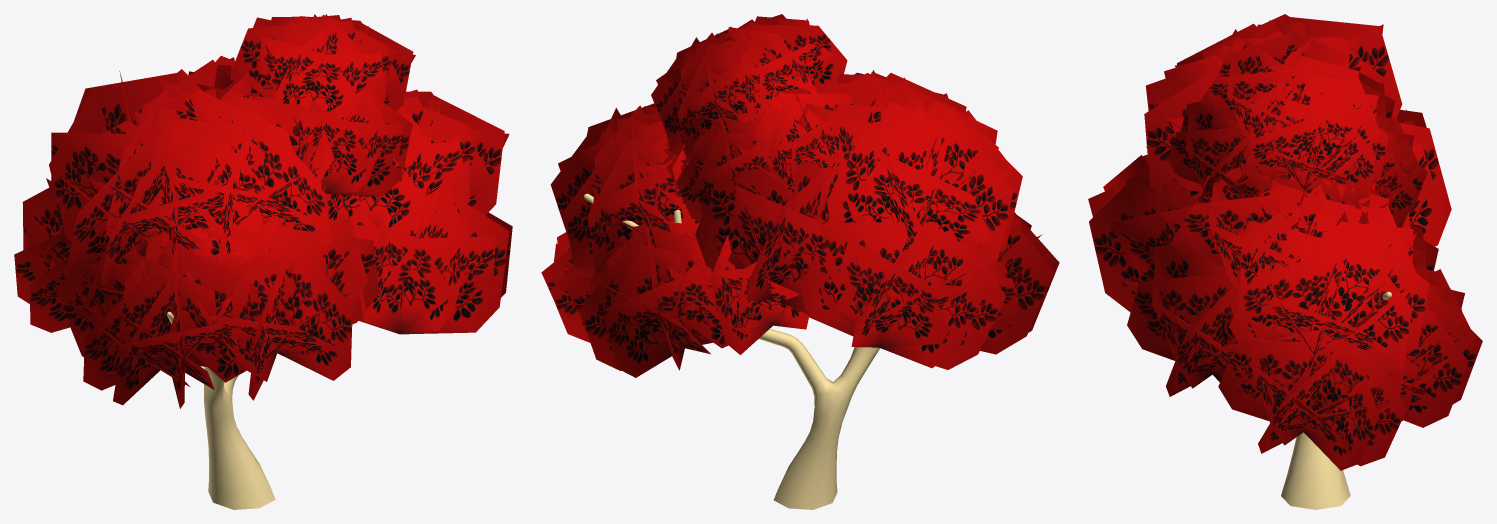
File: MV_Tree_05.gltf
3 views of the same model, side by side, from view 1: azimuth 30°, elevation 25°; view 2: azimuth 150°, elevation 25°; view 3: azimuth 270°, elevation 25° (orthographic). The views are drawn at different scales.
Visible parts, largest first — view 1: MV_Tree_05_Leaf_02, MV_Tree_05_Leaf_01, MV_Tree_05_Leaf_03, MV_Tree_05_Bark; view 2: MV_Tree_05_Leaf_02, MV_Tree_05_Leaf_01, MV_Tree_05_Leaf_03, MV_Tree_05_Bark; view 3: MV_Tree_05_Leaf_01, MV_Tree_05_Leaf_03, MV_Tree_05_Leaf_02, MV_Tree_05_Bark.
Boxes of the visible parts, x1,y1,x2,y2 form: MV_Tree_05_Leaf_02: (14, 56, 378, 408); MV_Tree_05_Leaf_01: (322, 89, 512, 334); MV_Tree_05_Leaf_03: (188, 14, 415, 196); MV_Tree_05_Bark: (167, 311, 275, 509); MV_Tree_05_Leaf_02: (695, 70, 1059, 369); MV_Tree_05_Leaf_01: (541, 103, 808, 377); MV_Tree_05_Leaf_03: (649, 14, 854, 226); MV_Tree_05_Bark: (584, 193, 880, 509); MV_Tree_05_Leaf_01: (1127, 162, 1482, 470); MV_Tree_05_Leaf_03: (1167, 30, 1427, 234); MV_Tree_05_Leaf_02: (1088, 14, 1451, 312); MV_Tree_05_Bark: (1281, 291, 1391, 509).
Bounding box in the file's own units: 13.21 × 12.54 × 9.54.
